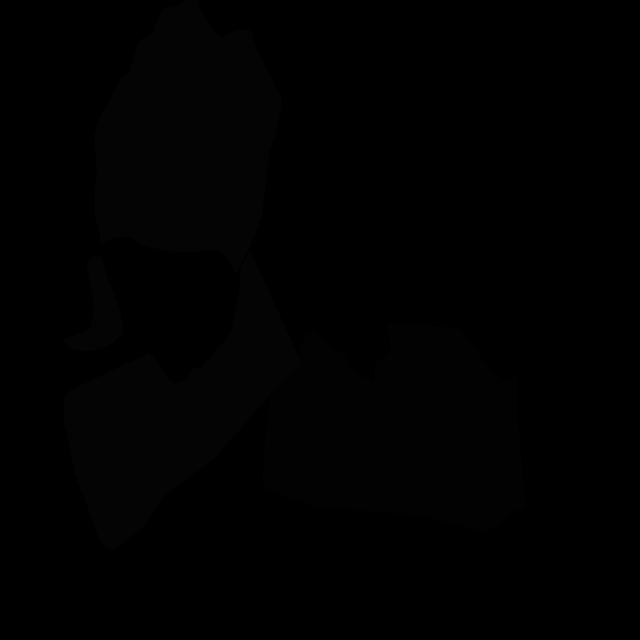cardboard: (262, 324, 526, 532)
soft_plastic: (63, 250, 302, 549), (94, 0, 282, 273), (62, 256, 122, 352)
